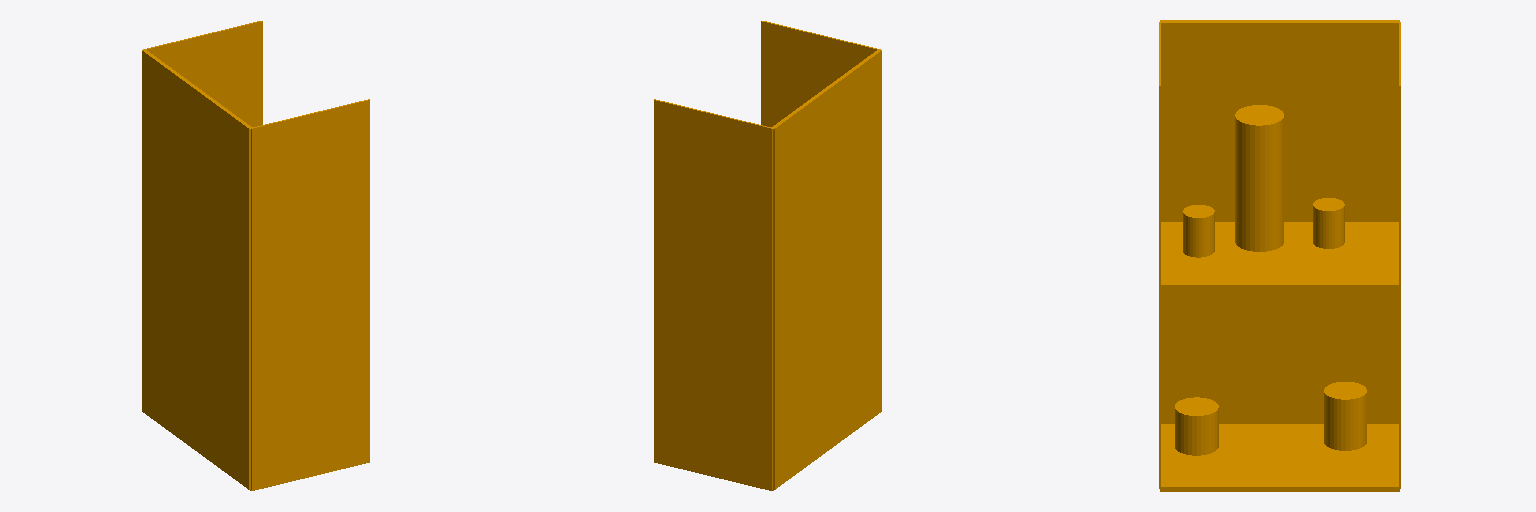
robot.urdf — syn_can_cabinet_2142:
<?xml version="1.0" ?>
<robot name="syn_can_cabinet_2142">
    <link concave="yes" name="base_link">
        <inertial>
            <origin rpy="0 0 0" xyz="0 0 0"/>
            <mass value="0.0"/>
            <inertia ixx="1e-08" ixy="0" ixz="0" iyy="1e-08" iyz="0" izz="1e-08"/>
        </inertial>
        <visual>
            <origin xyz="0 0 0" rpy="0 0 0" />
            <geometry>
                <mesh filename="syn_can_cabinet_2142.obj" scale="1.000000 1.000000 1.000000"/>
            </geometry>         
        </visual>

        <collision concave="yes">
            <origin xyz="0 0 0" rpy="0 0 0"/>
            <geometry>
                <mesh filename="syn_can_cabinet_2142.obj" scale="1.000000 1.000000 1.000000"/>
            </geometry>
        </collision>
    </link>
</robot>
    

--- Facts derived from the render (not from the file) ---
Views: 3 orthographic renders of the robot side by side, from view 1: azimuth 30°, elevation 25°; view 2: azimuth 150°, elevation 25°; view 3: azimuth 270°, elevation 25°.
Model syn_can_cabinet_2142 with 1 links and 0 joints (none), rooted at base_link, posed all joints at 0.
Links seen in each view (by area): view 1: base_link; view 2: base_link; view 3: base_link.
Boxes of the visible links, x1,y1,x2,y2 form: base_link: [142, 21, 369, 490]; base_link: [654, 21, 881, 490]; base_link: [1159, 20, 1400, 491].
Bounding box of the posed robot: 0.1962 × 0.3063 × 0.5656 m (x, y, z).
1 mesh visuals loaded from 1 distinct referenced files (1 OBJ).
